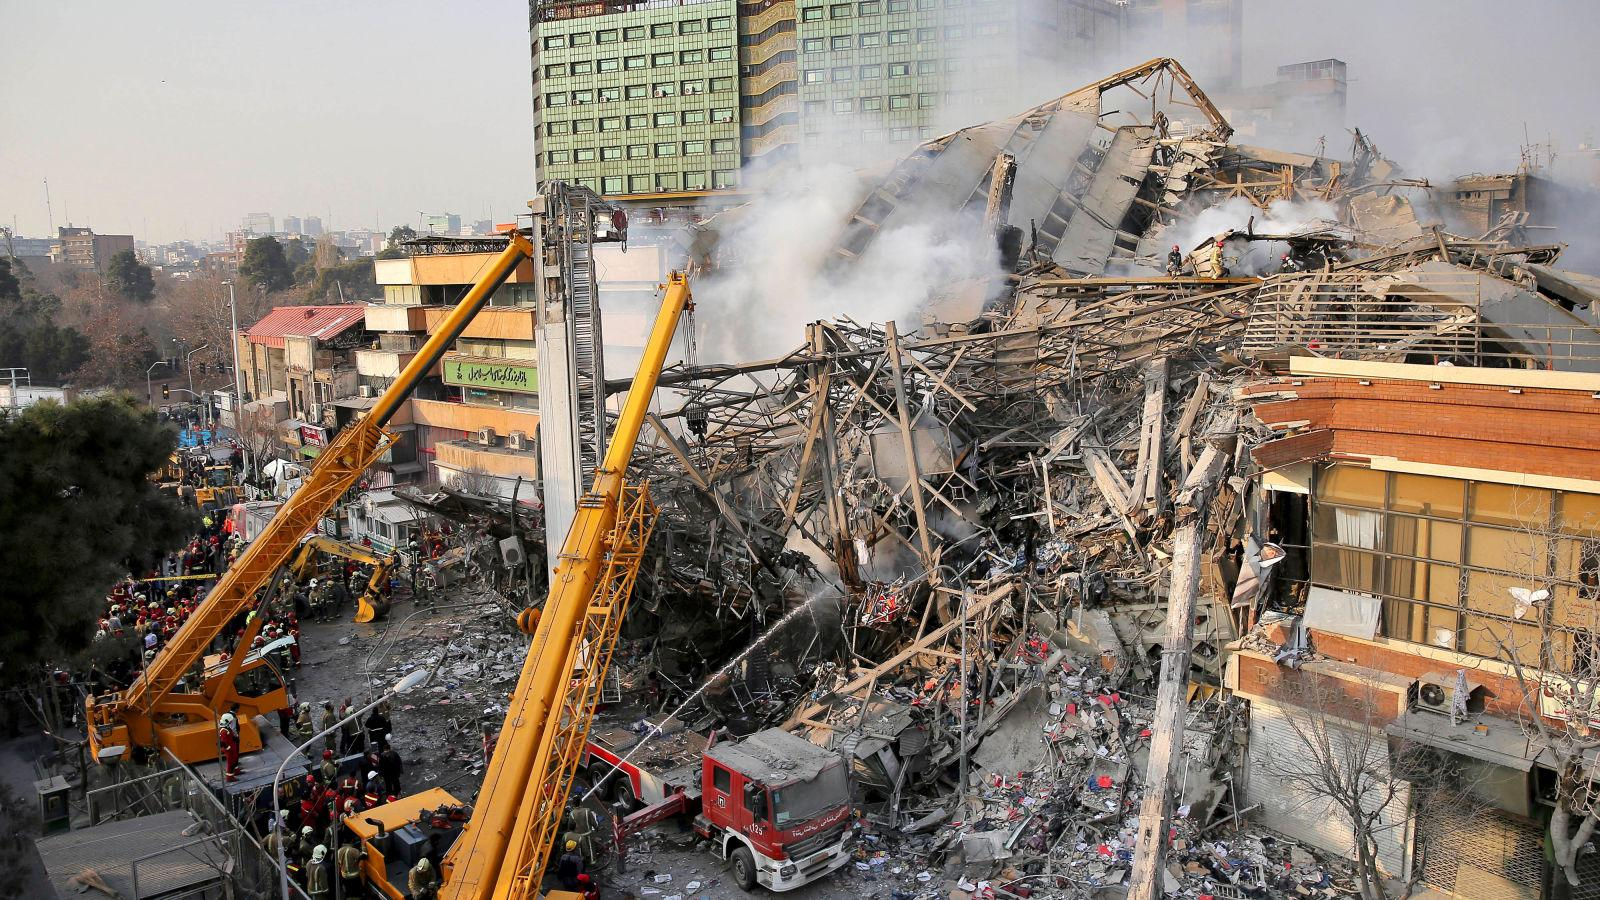smoke: (698, 151, 990, 353), (1365, 2, 1600, 174), (963, 9, 1251, 107)
